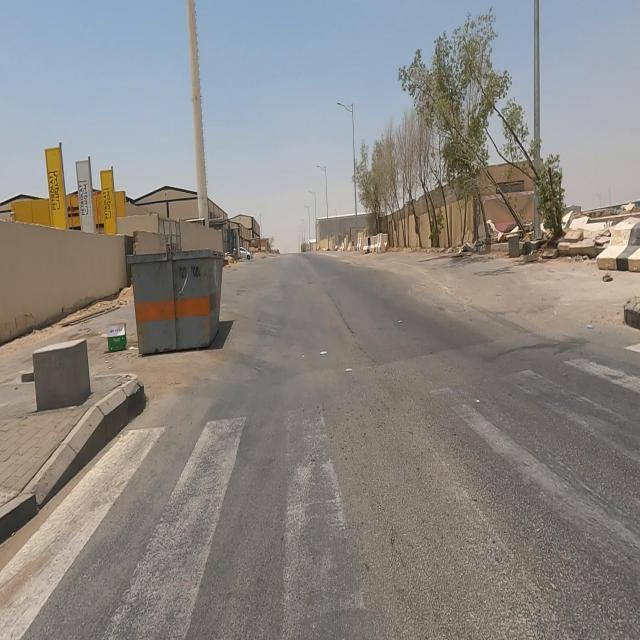debris: (75, 269, 162, 388)
